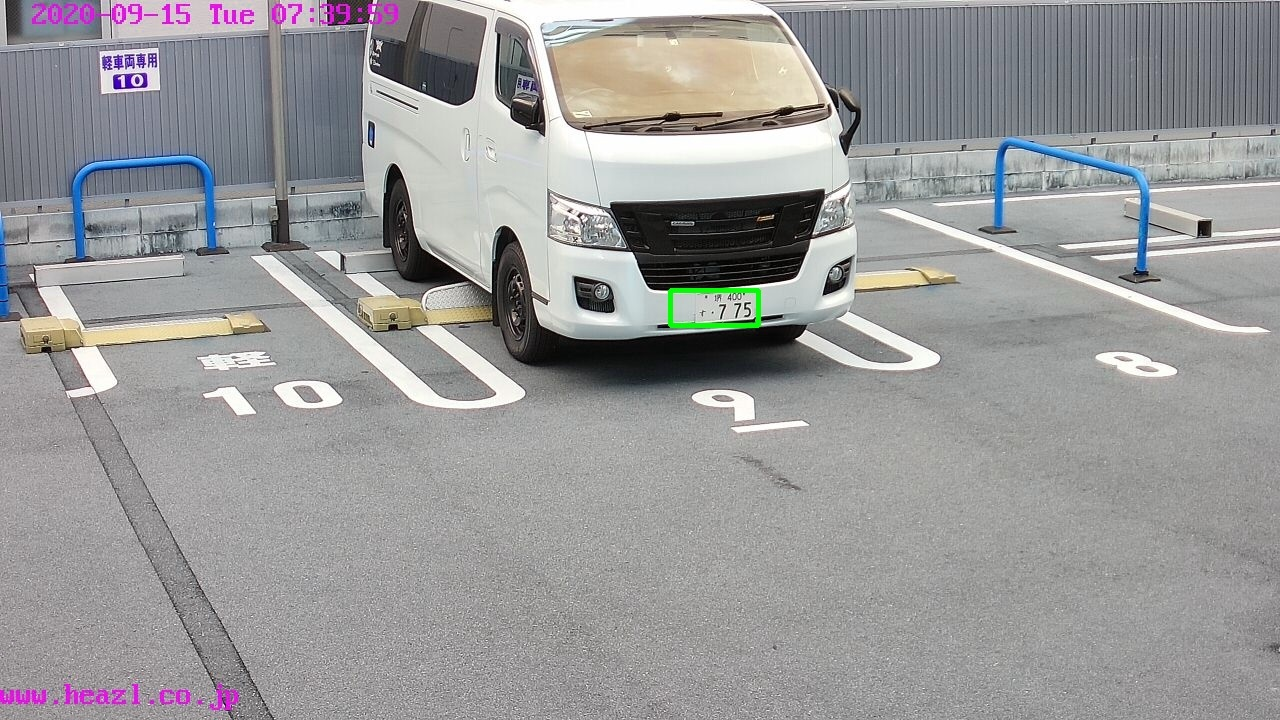number_plate: (695, 291, 755, 322)
